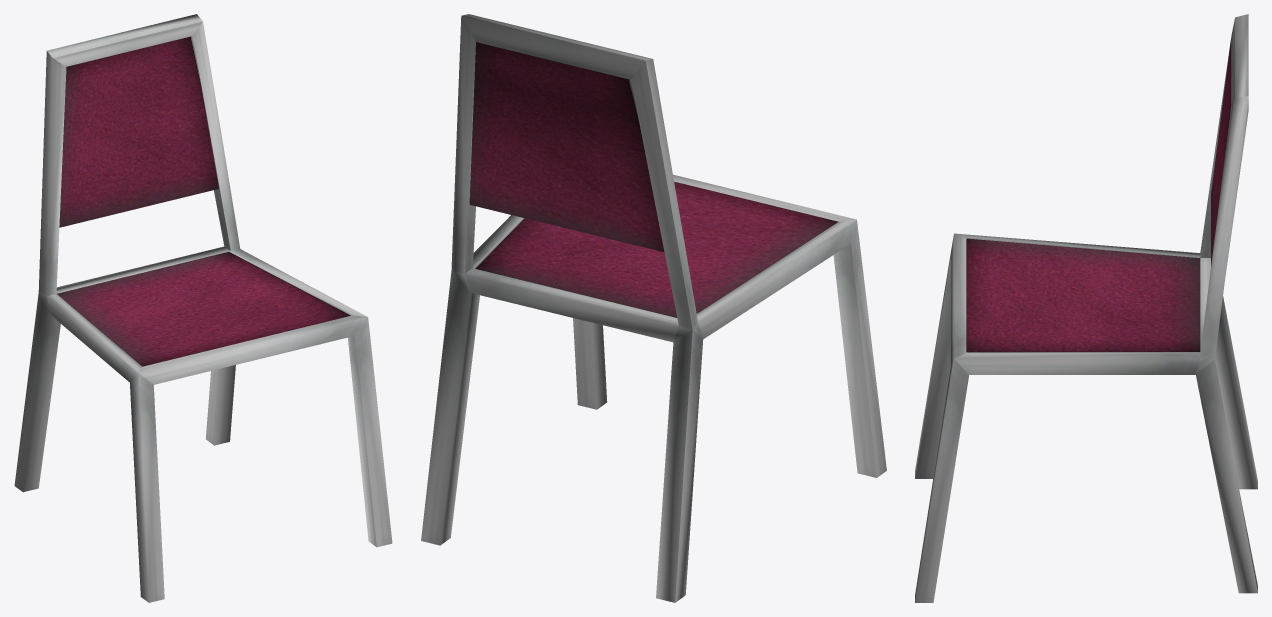
File: chr_med_reg_purp.fbx
3 renders of one model, left to right at view 1: azimuth 30°, elevation 25°; view 2: azimuth 150°, elevation 25°; view 3: azimuth 270°, elevation 25°, orthographic. The views are drawn at different scales.
Visible parts, largest first — view 1: mesh_0; view 2: mesh_0; view 3: mesh_0.
Part boxes in pixels (x1=…): mesh_0: x1=14, y1=14, x2=392, y2=602; mesh_0: x1=421, y1=14, x2=886, y2=602; mesh_0: x1=915, y1=14, x2=1257, y2=602.
Size of the model in its own units: 58.47 by 99.03 by 63.84.
1 material, 1 textured.
